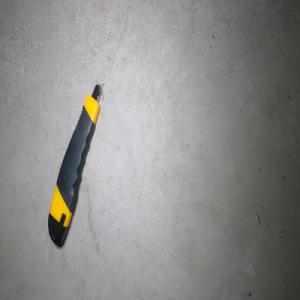Cutter: (47, 82, 104, 246)
